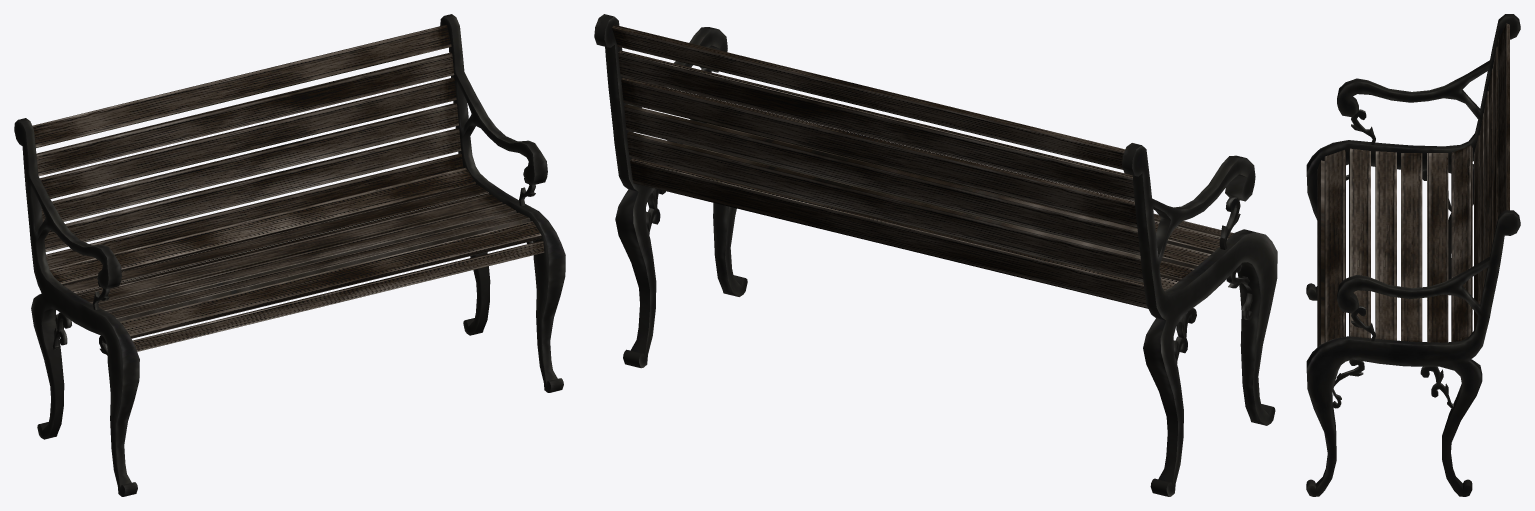
Rendered from garden_chair.fbx.
3 renders of one model, left to right at view 1: azimuth 30°, elevation 25°; view 2: azimuth 150°, elevation 25°; view 3: azimuth 270°, elevation 25°, orthographic. The views are drawn at different scales.
Visible parts, largest first — view 1: Mesh Object; view 2: Mesh Object; view 3: Mesh Object.
Part boxes in pixels (bbox=[...]): Mesh Object: bbox=[14, 14, 565, 496]; Mesh Object: bbox=[594, 14, 1277, 496]; Mesh Object: bbox=[1306, 14, 1520, 496].
Bounding box in the file's own units: 1.82 × 1.17 × 0.8059.
